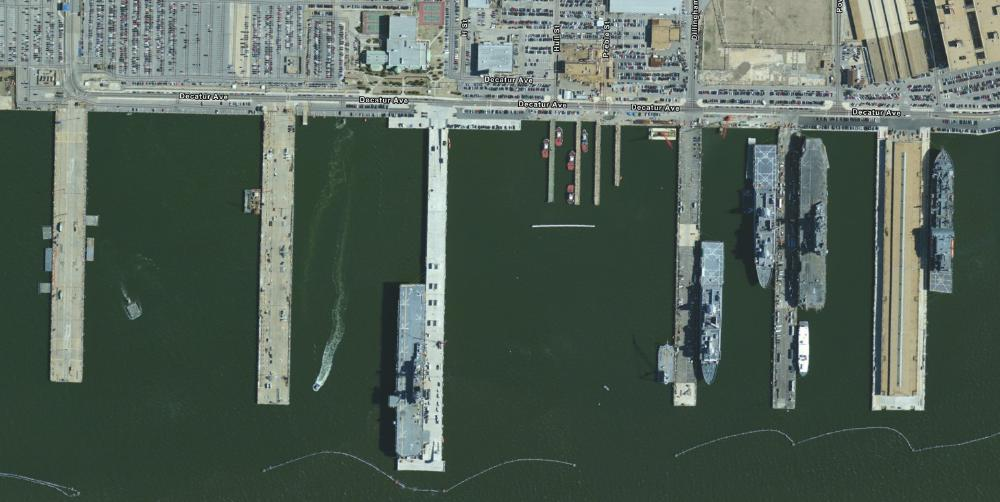pha: (388, 281, 433, 466), (796, 133, 835, 319)
tender: (928, 146, 963, 309)
